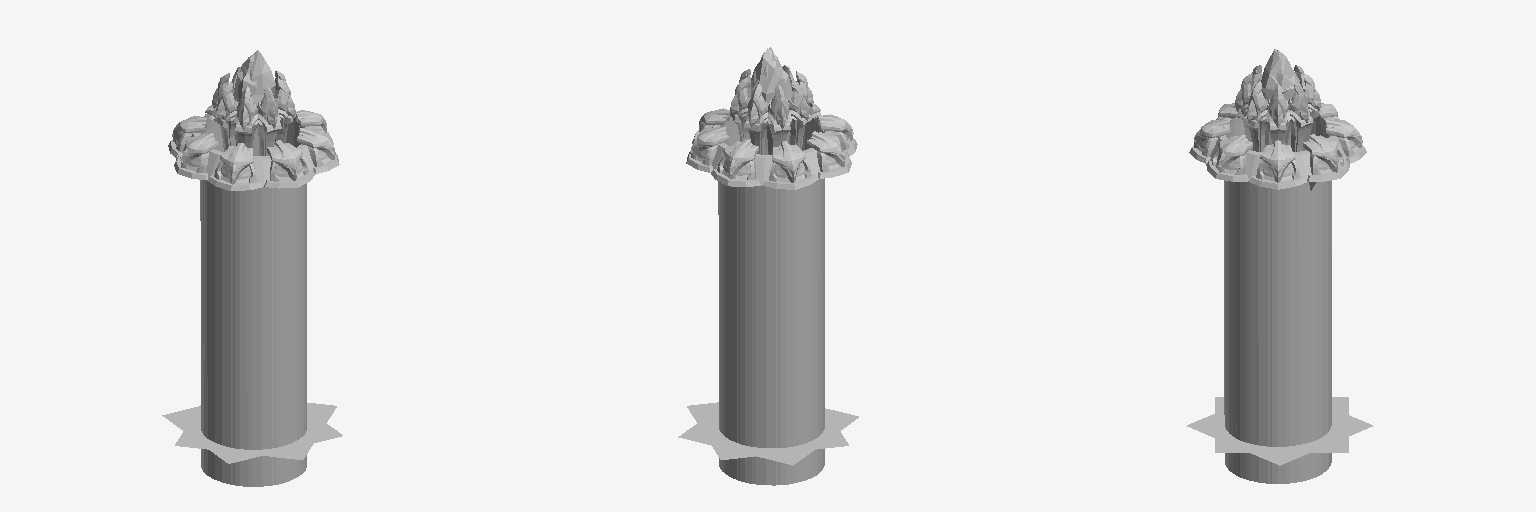
File: chaos_nexus.obj
The picture shows the model from 3 angles: view 1: azimuth 30°, elevation 25°; view 2: azimuth 150°, elevation 25°; view 3: azimuth 270°, elevation 25°; orthographic projection.
Parts seen in each view (by area): view 1: lolMesh_sruap_chaosnexus; view 2: lolMesh_sruap_chaosnexus; view 3: lolMesh_sruap_chaosnexus.
Part boxes in pixels (x1,y1,x2,y2): lolMesh_sruap_chaosnexus: (162,50,342,486); lolMesh_sruap_chaosnexus: (678,47,858,485); lolMesh_sruap_chaosnexus: (1187,49,1372,483).
Bounding box in the file's own units: 7.41 × 17.94 × 7.41.